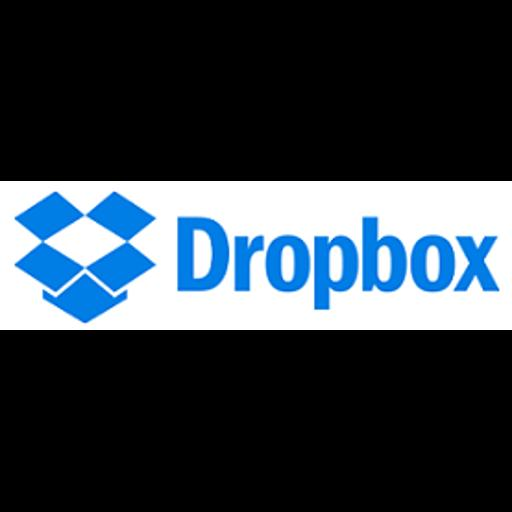Dropbox: (0, 181, 512, 330)
